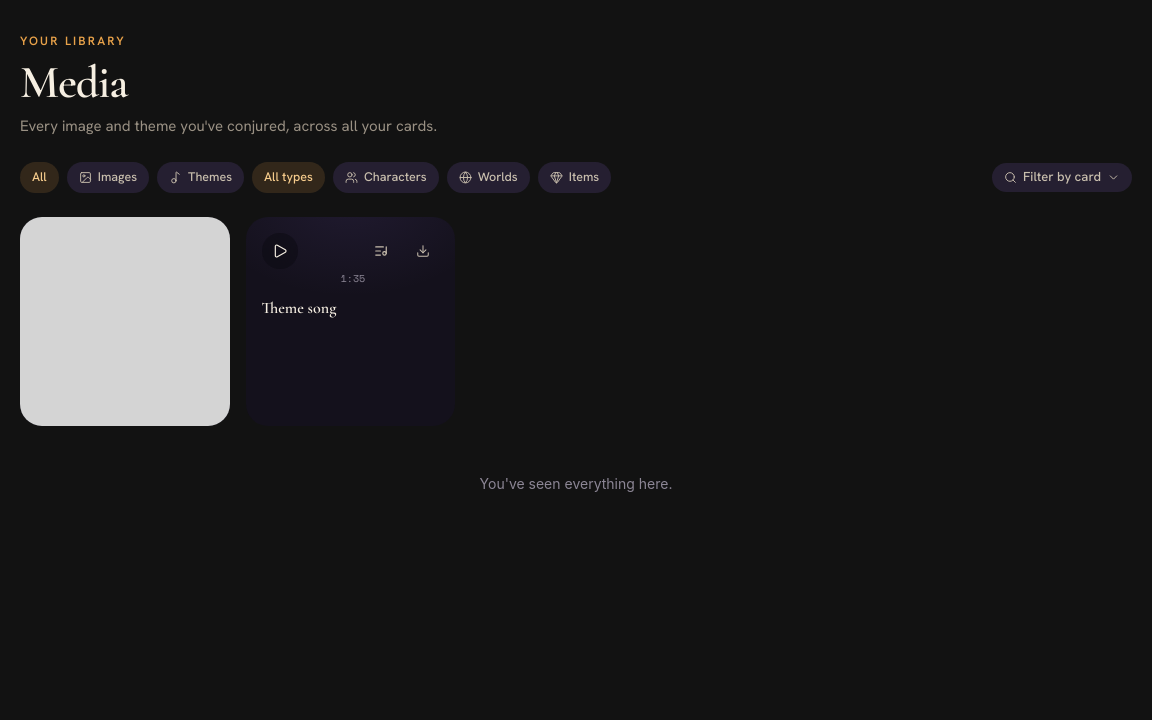
Test: MediaGalleryPage › clicking a tile's card badge filters to that card and syncs the type chip
The width and height of the screenshot is (1152, 720).
Click the button "Characters": (386, 178) [333,162,439,193]
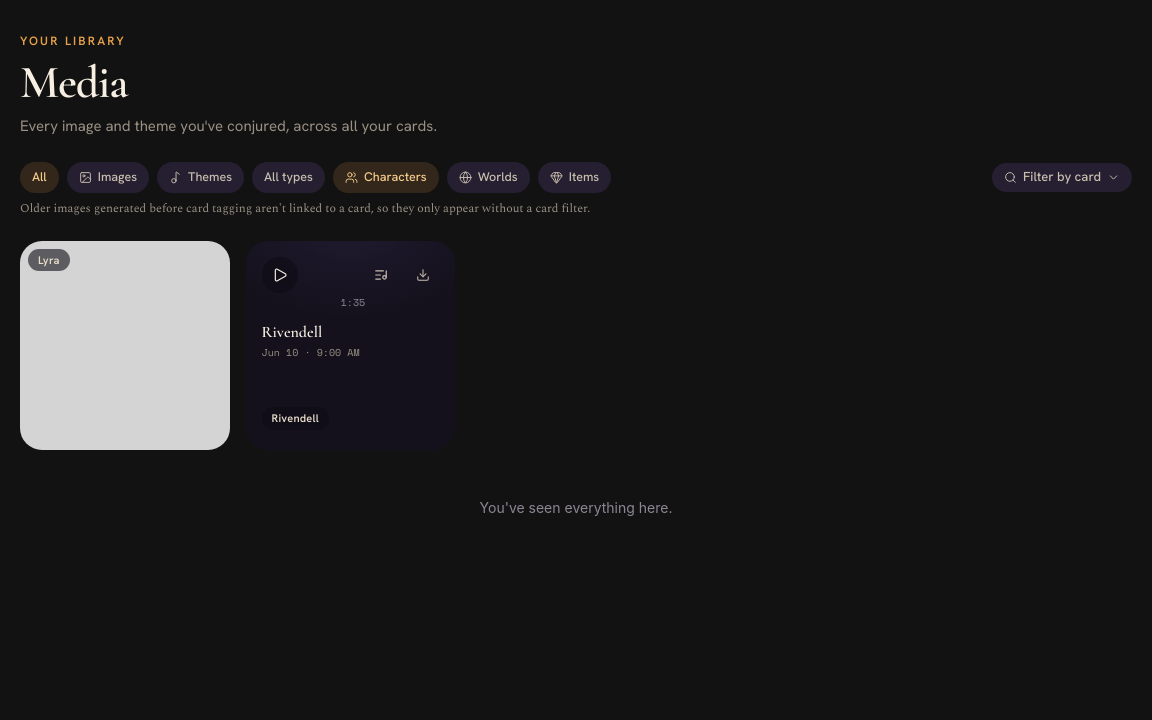
Click the button with test id "media-card-badge": (49, 260) [28,249,70,271]
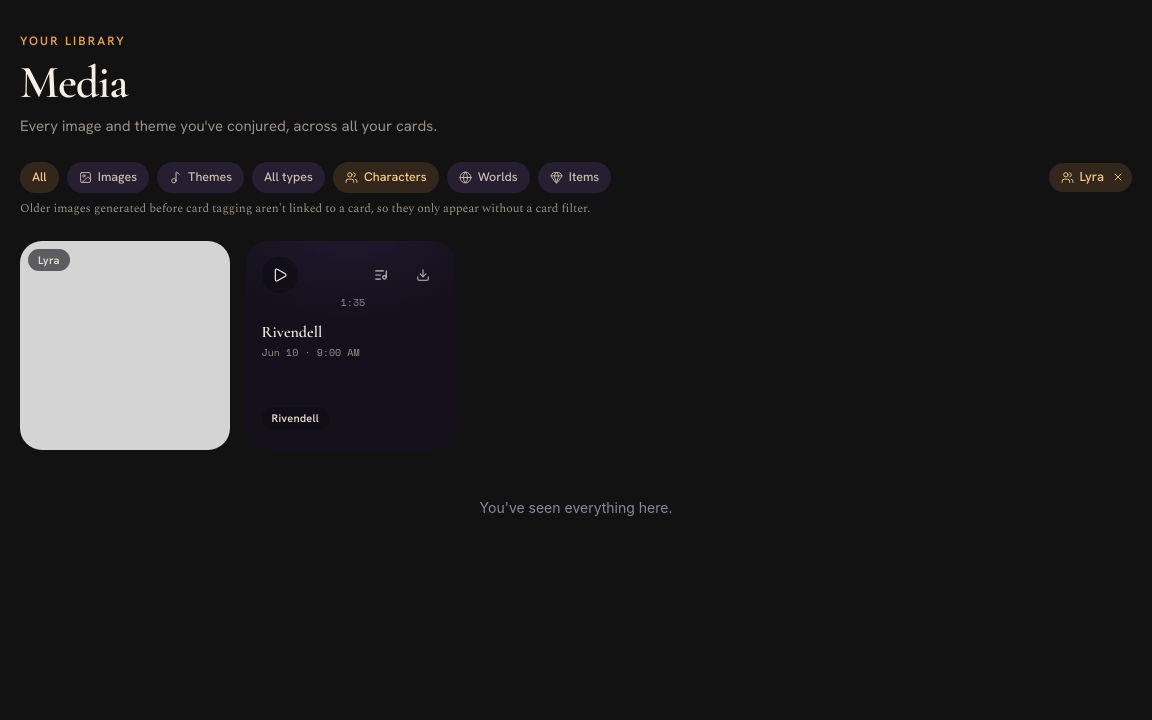
Now the dropdown with test id "card-picker-trigger" reads "Lyra", box [1048,163,1104,192]
